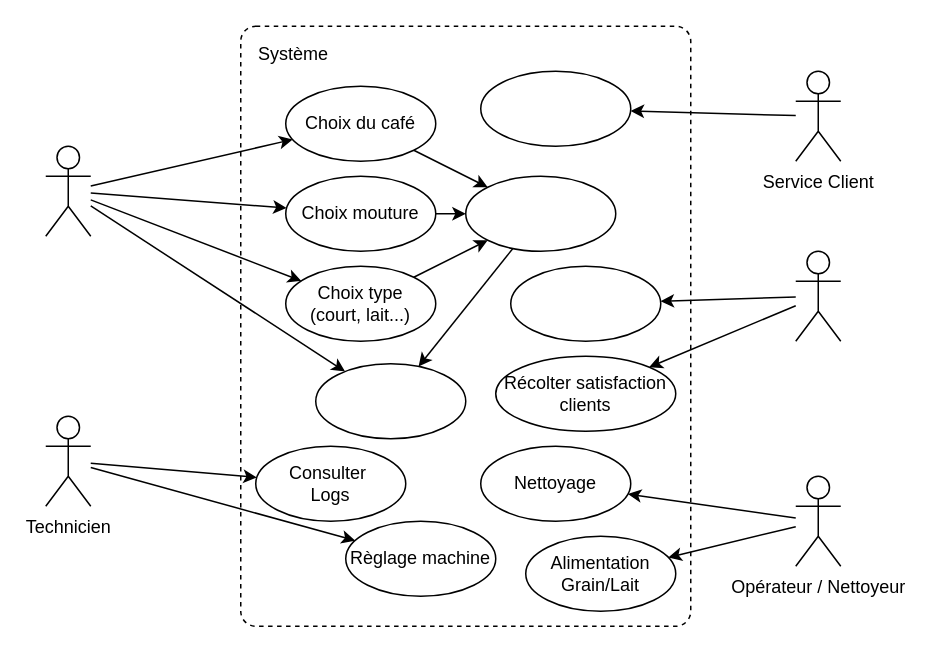
This 932x653 diagram has some shape labels left out. Here are the shapes that lost their labels. From the top down, the centre of each, then its label:
At (x=555, y=108): "S'abonner aux notifications".
At (x=67, y=190): "Utilisateur".
At (x=540, y=213): "Prépare un café".
At (x=585, y=303): "Afficher de la publicité".
At (x=817, y=295): "Partie prenante".
At (x=390, y=400): "Prendre café".
